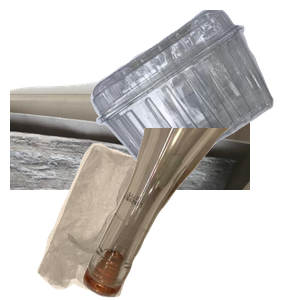glass: (80, 128, 300, 300)
paper: (10, 77, 250, 257)
plastic: (88, 10, 300, 180)
trash: (35, 140, 203, 300)
